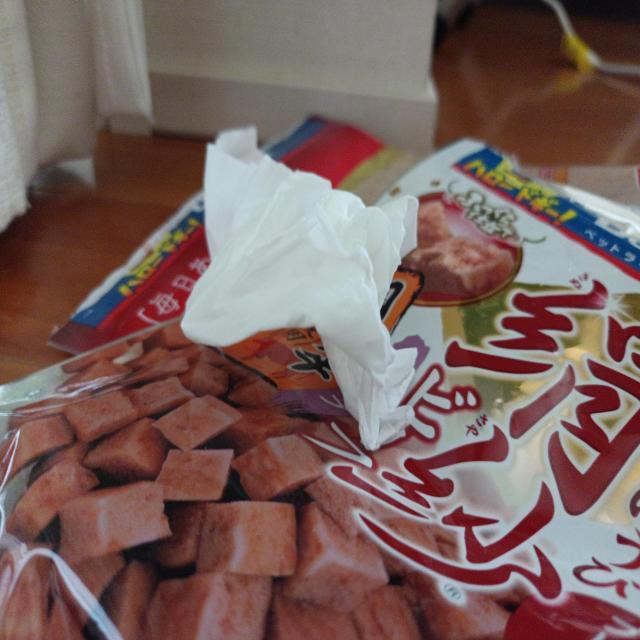Paper: (206, 140, 419, 417)
